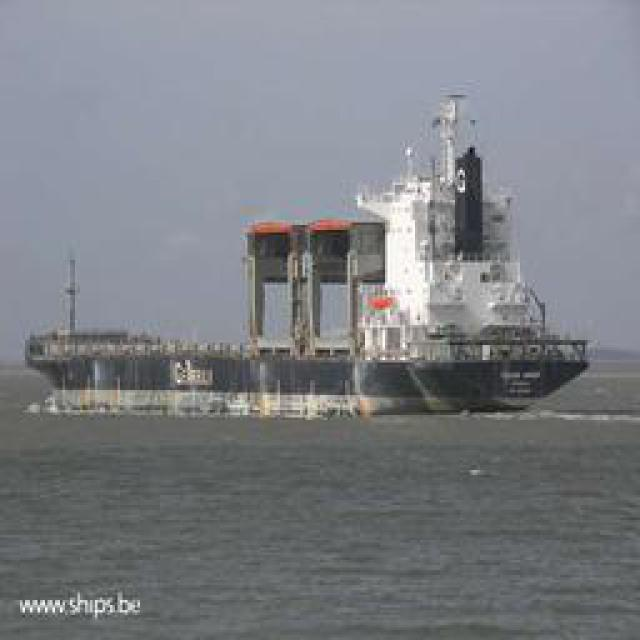Ship: (21, 147, 591, 410)
